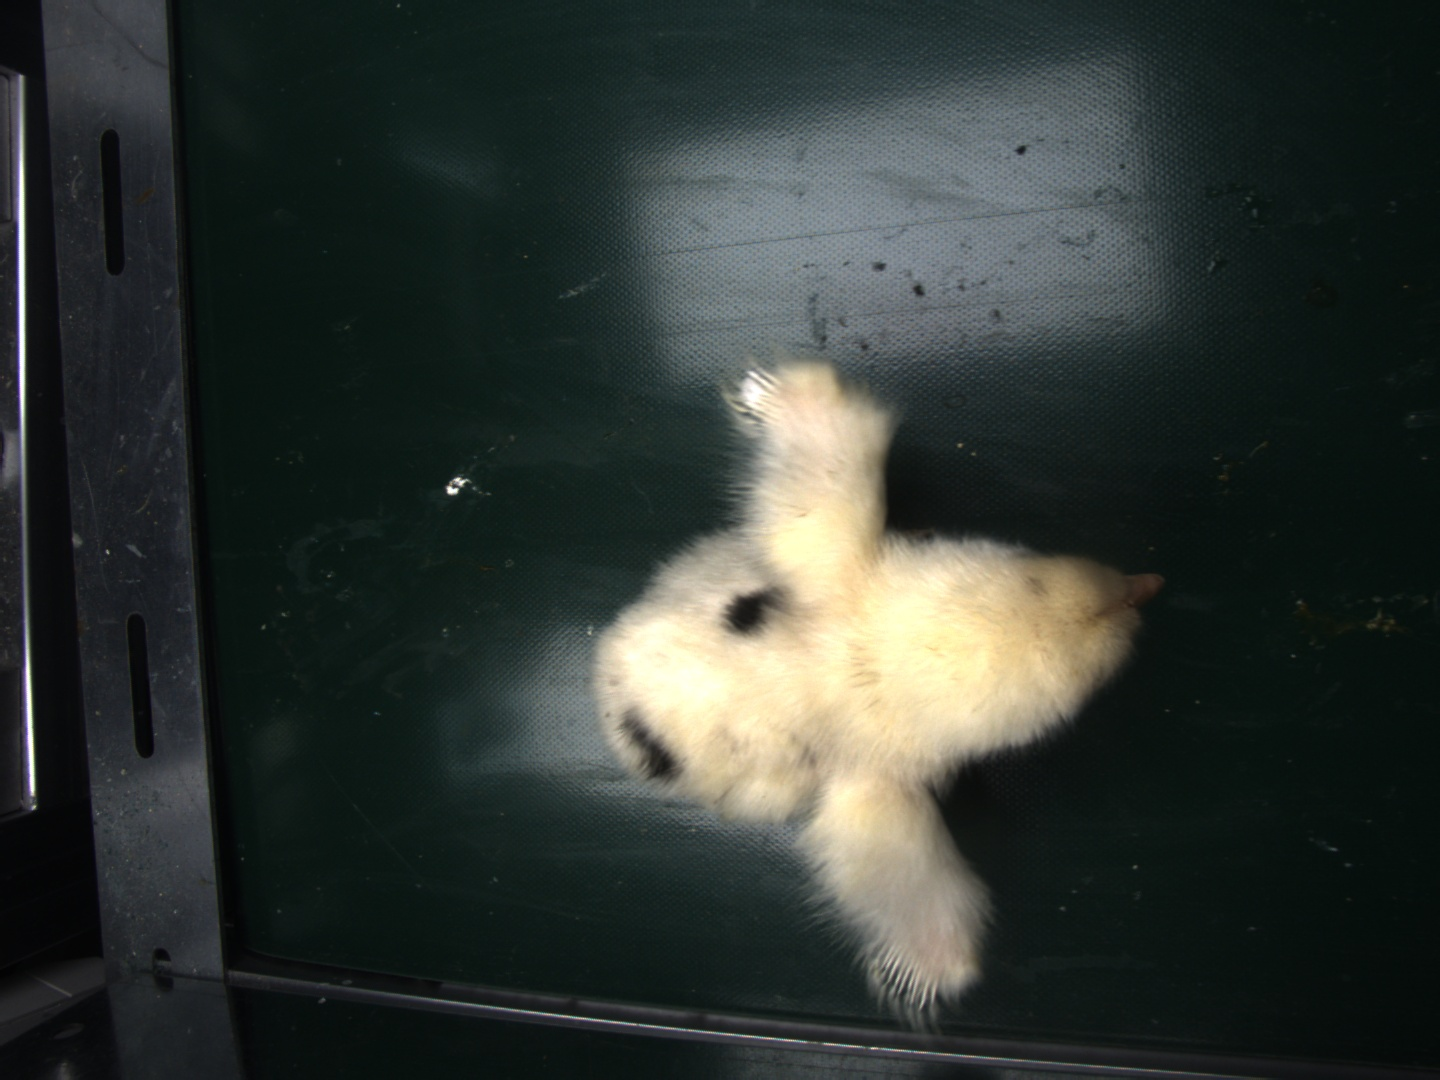male: (870, 945, 942, 1010)
